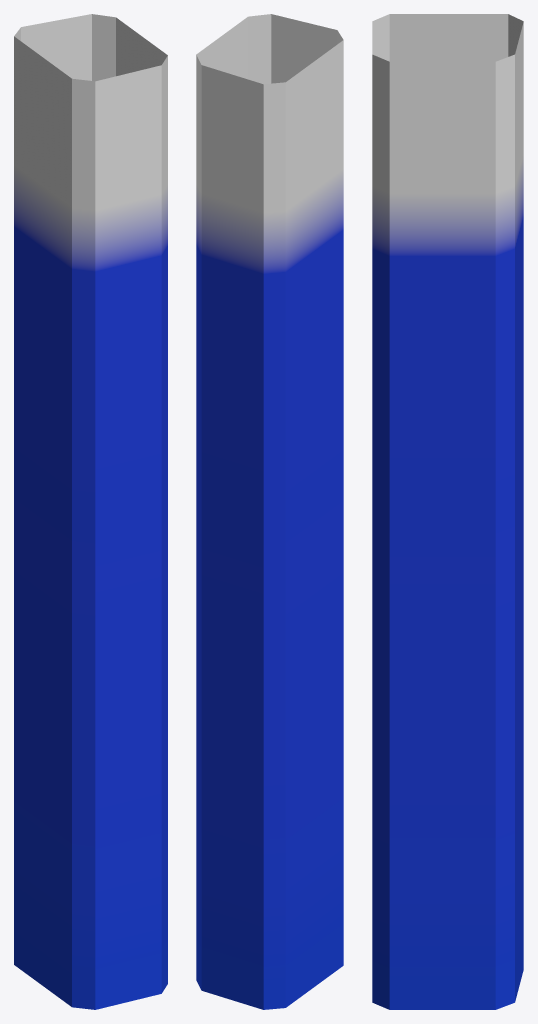
Rendered from light_01.obj.
3 views of the same model, side by side, from view 1: azimuth 30°, elevation 25°; view 2: azimuth 150°, elevation 25°; view 3: azimuth 270°, elevation 25° (orthographic). The views are drawn at different scales.
Size of the model in its own units: 231 by 2139 by 310.
